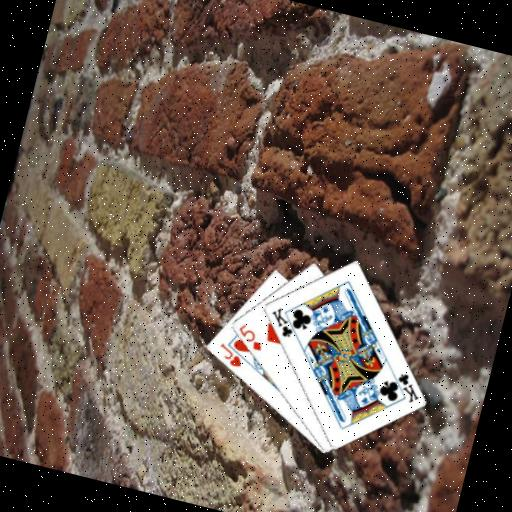5D: (232, 320, 268, 354)
JH: (213, 339, 247, 369)
KC: (263, 302, 305, 342), (384, 367, 426, 407)
